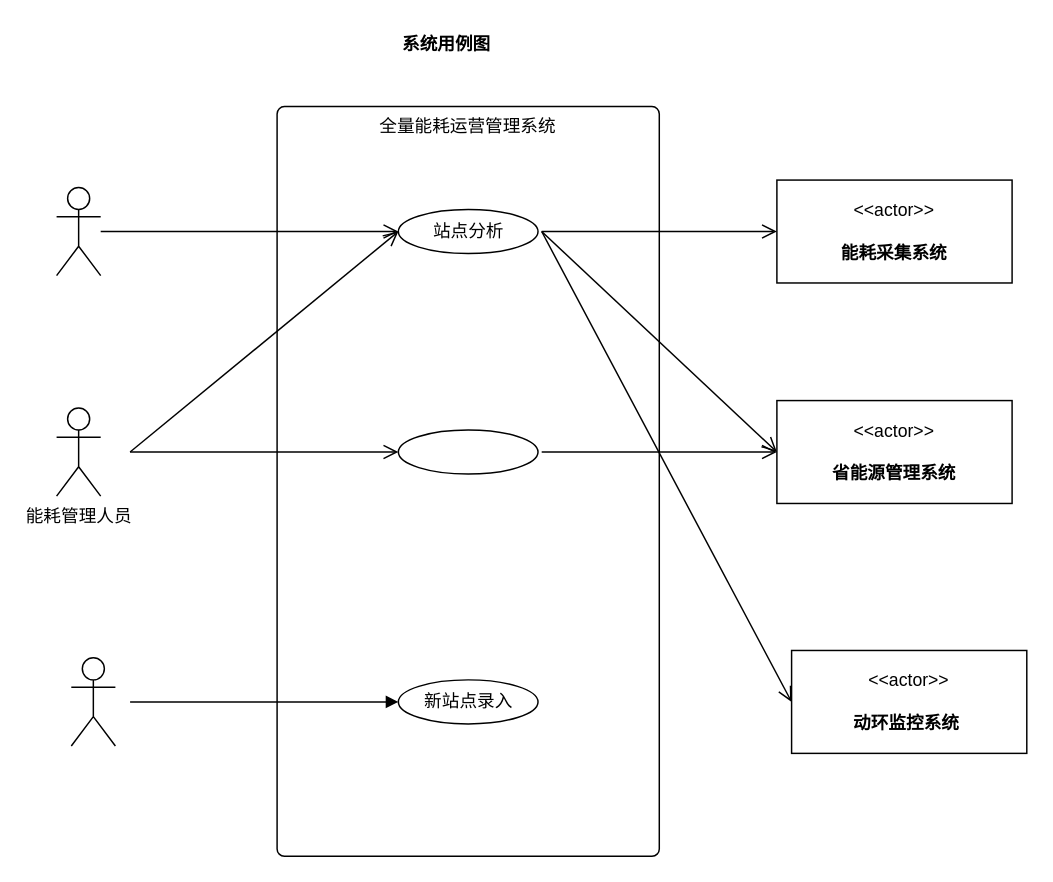
The diagram is 1053 pixels wide and 882 high, and some of its shapes have lost their labels. The box of each missing label's shape, as (x1, y1, x2, y2) in pixels:
监控维护人员: (55, 186, 101, 276)
站点录入人员: (70, 656, 115, 746)
能耗管理: (397, 429, 538, 474)
